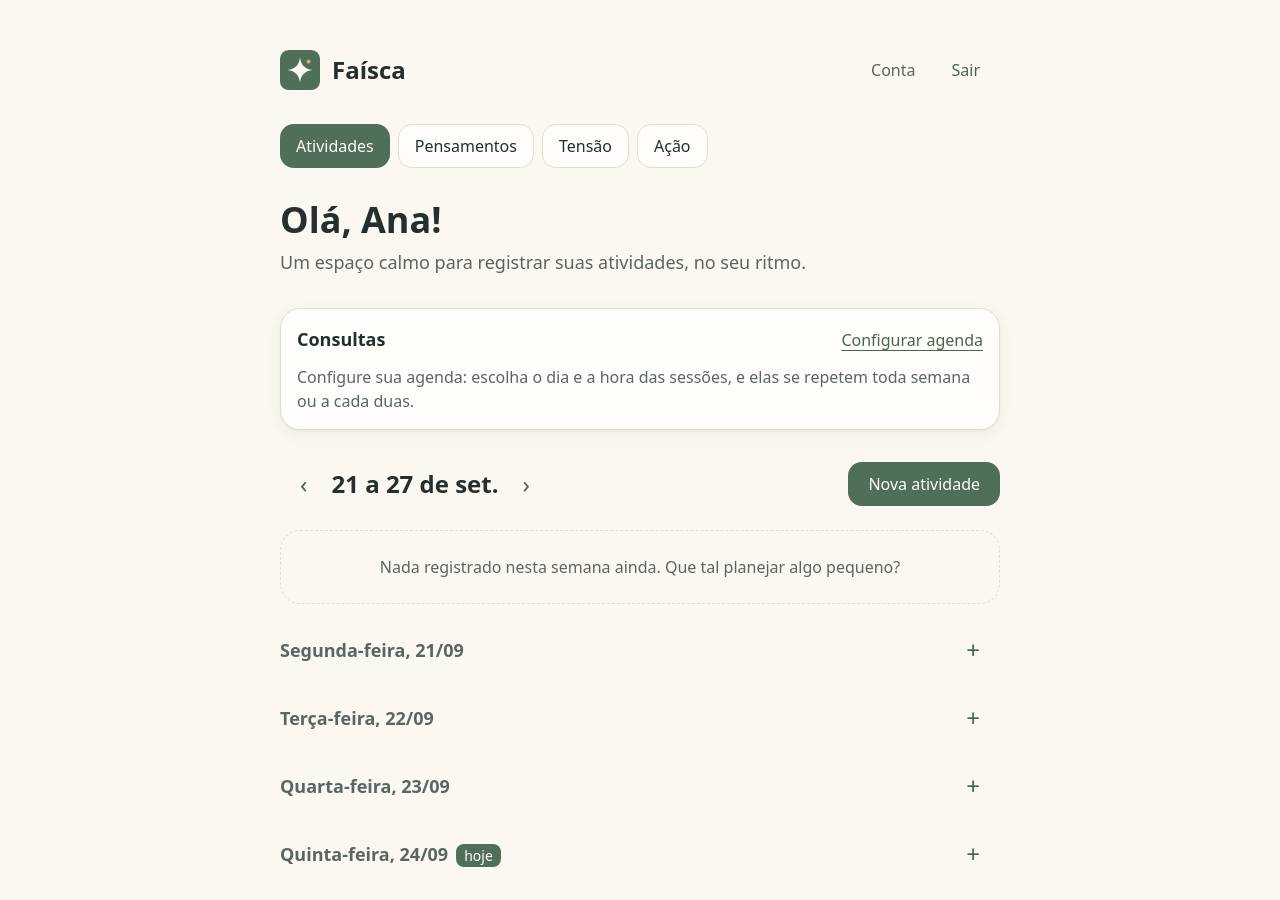
Test: RecordsPage: nova atividade › planeja uma atividade para hoje
The image size is (1280, 900).
Click the button "Nova atividade". click: (924, 484)
box: x1=848 y1=462 x2=1000 y2=506
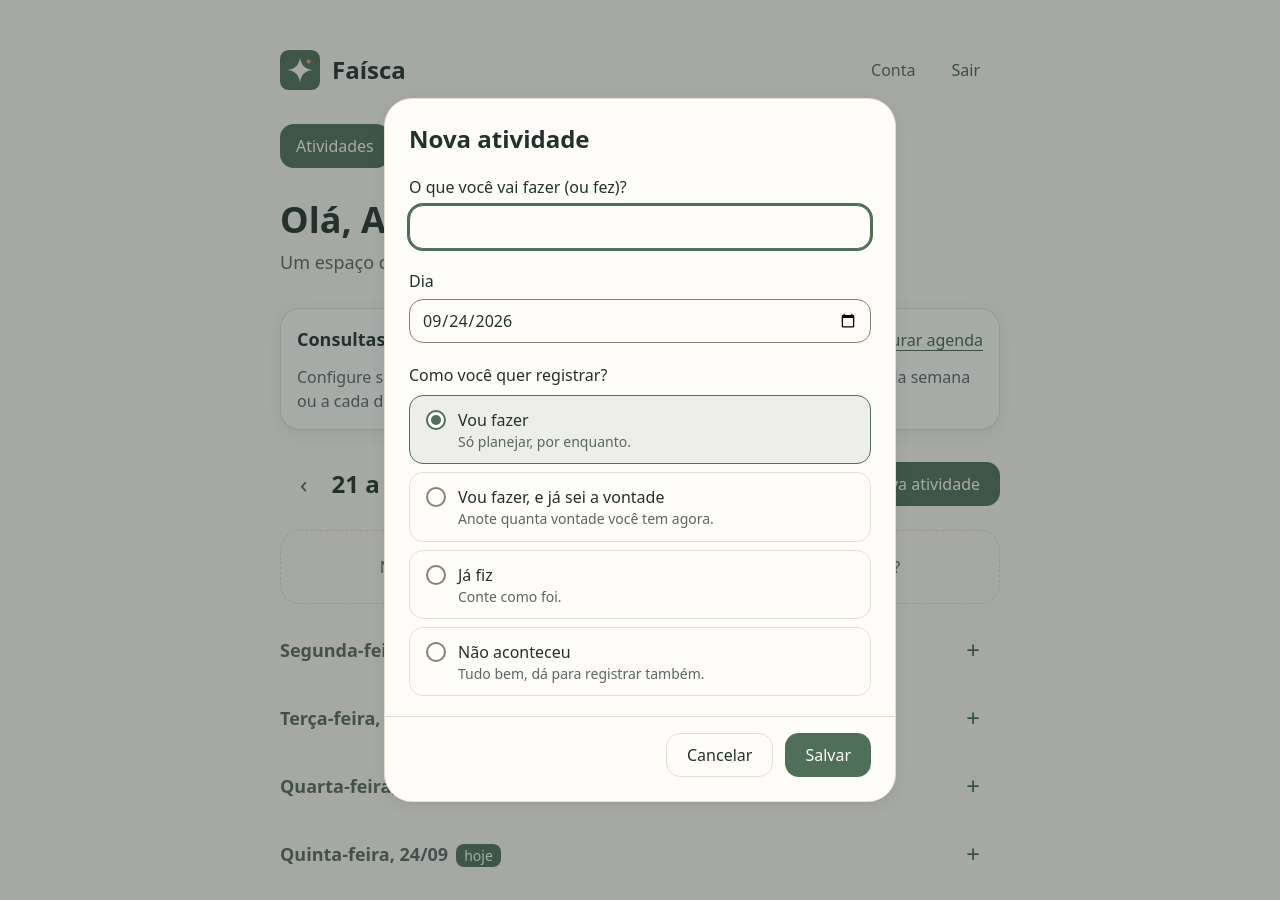
Type "  Ligar para uma amiga " into the field labelled "O que você vai fazer (ou fez)?". click: (640, 227)
box: x1=409 y1=205 x2=871 y2=249
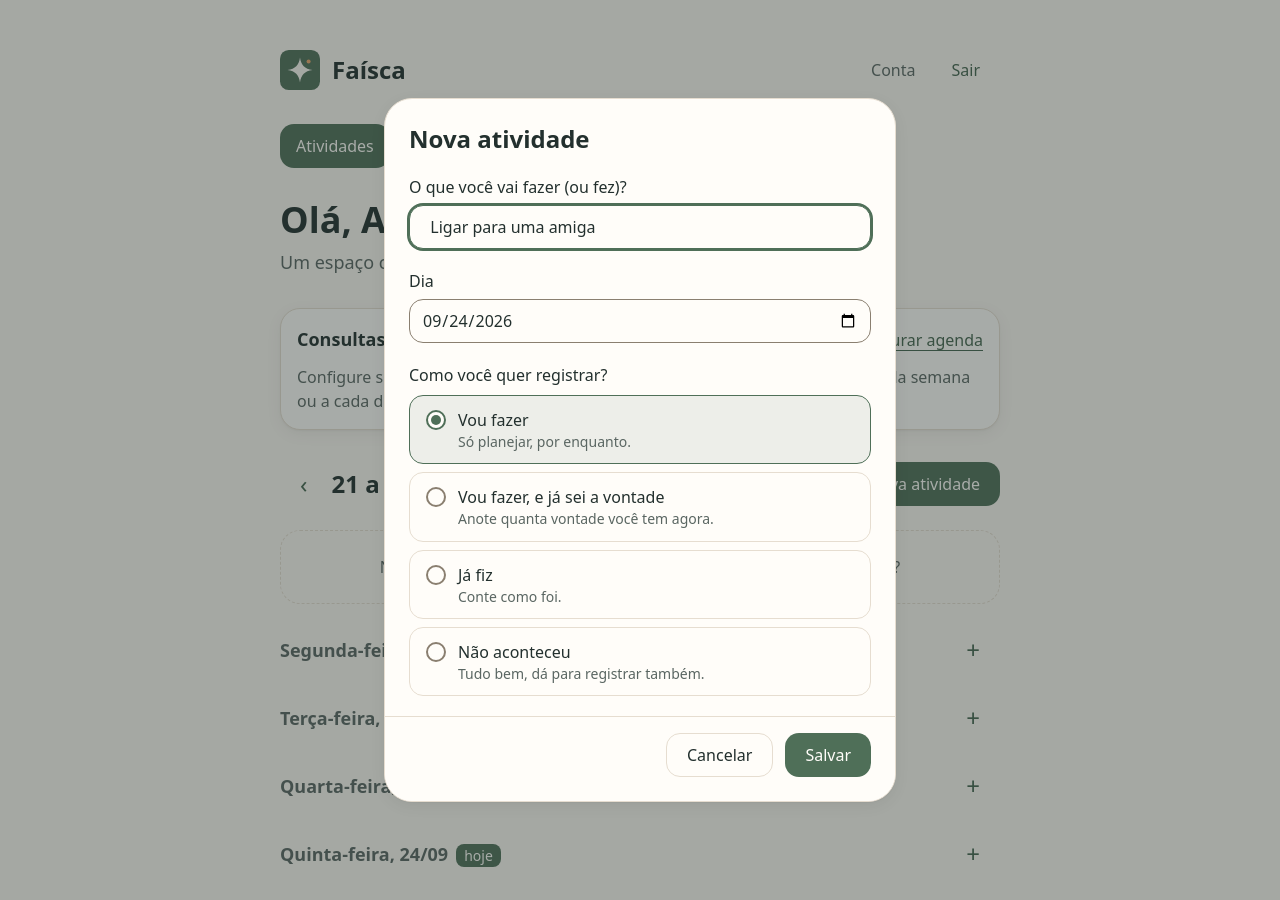
Click the button "Salvar". click: (828, 755)
box: x1=785 y1=733 x2=871 y2=777
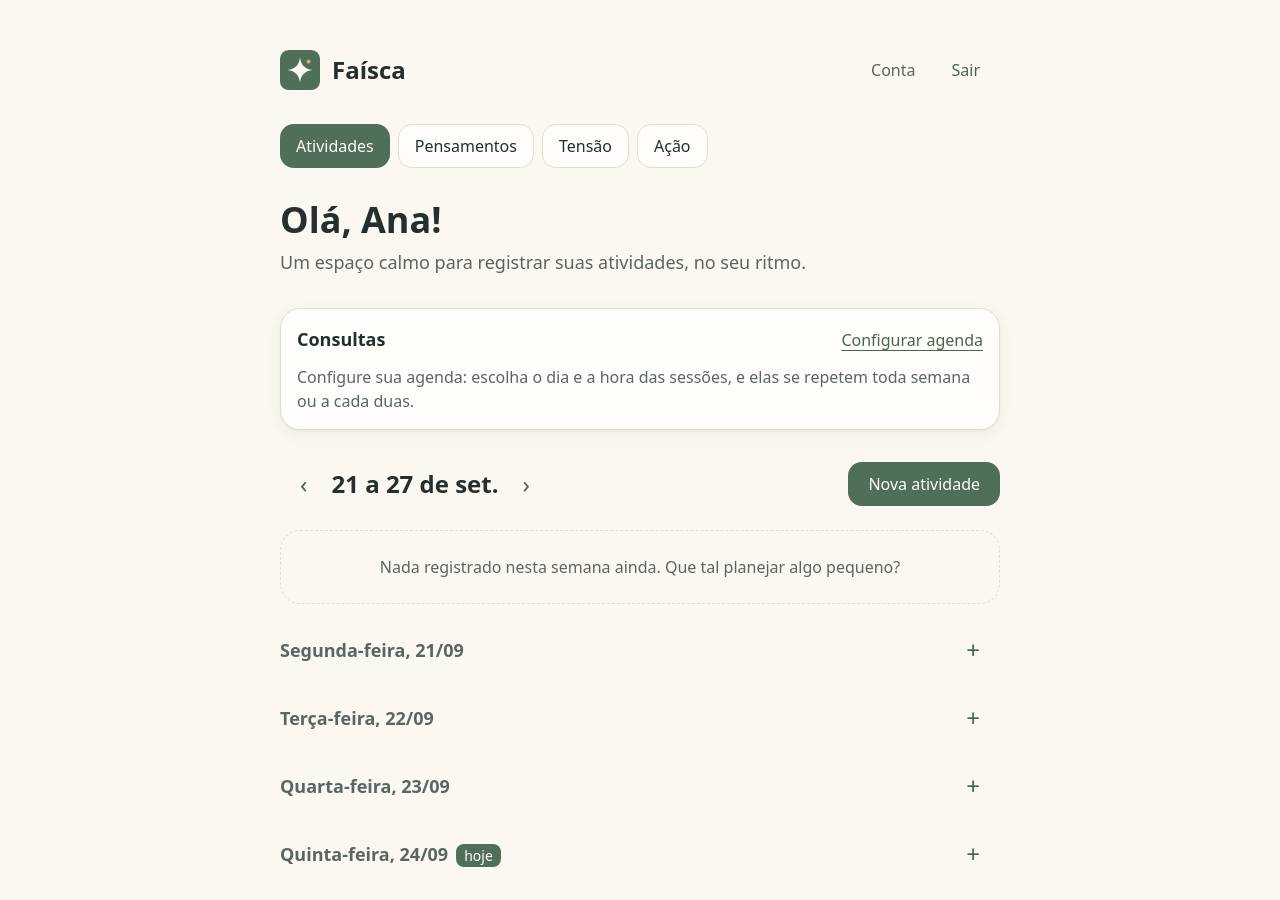
Expected: the dialog is gone
